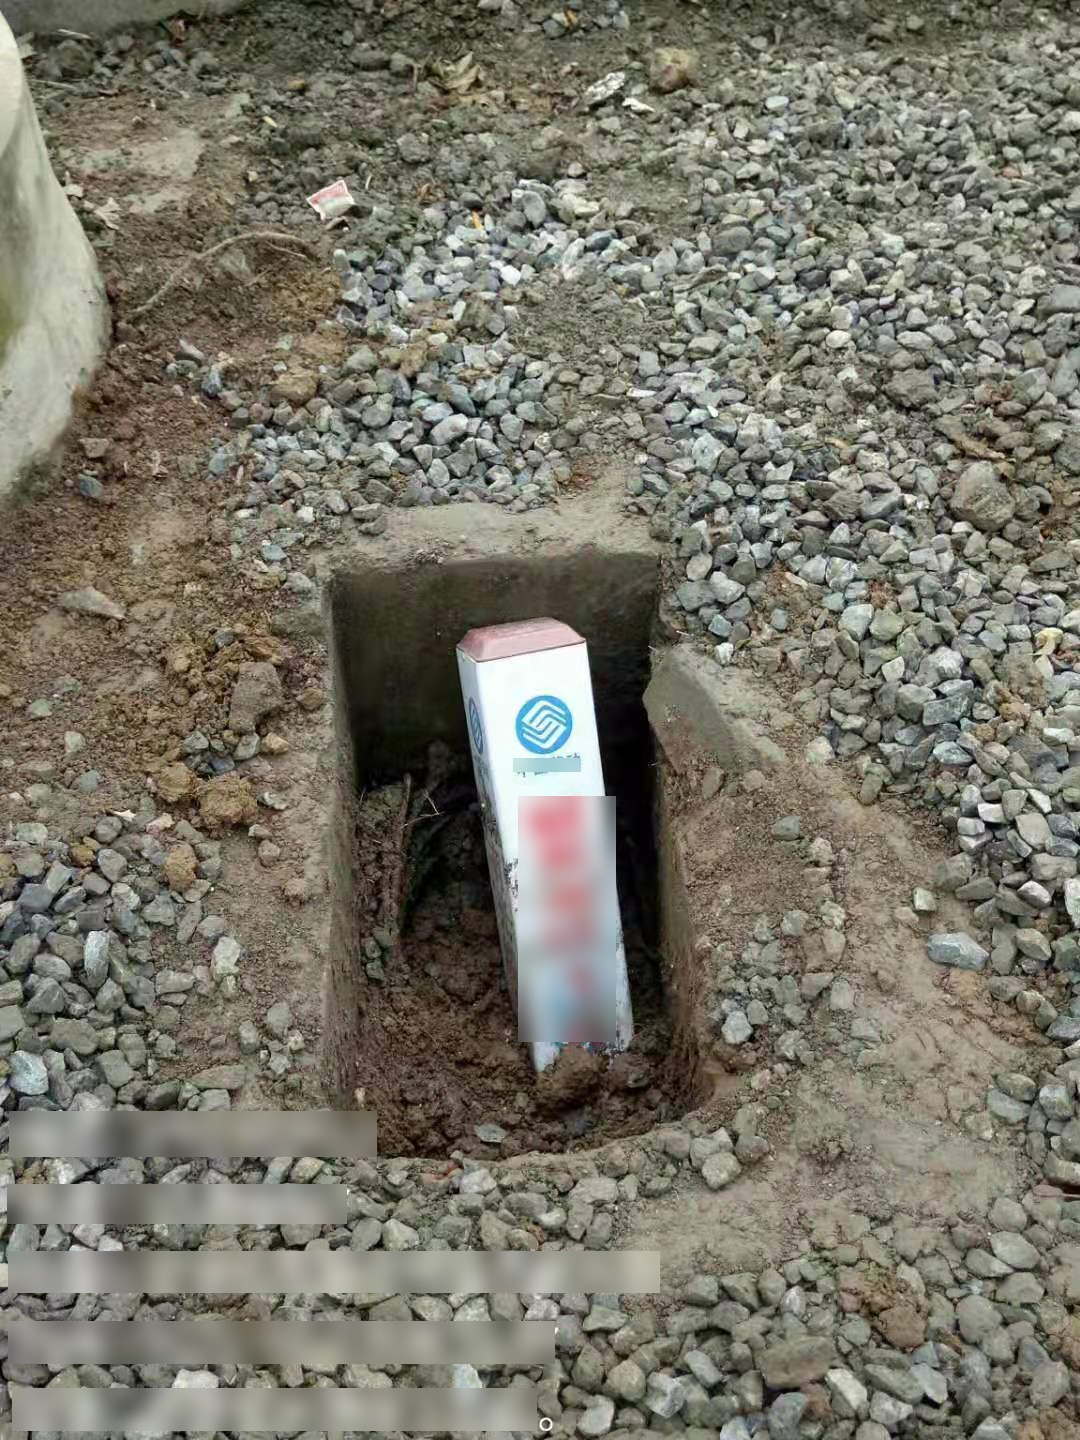lose: (309, 544, 745, 1164)
